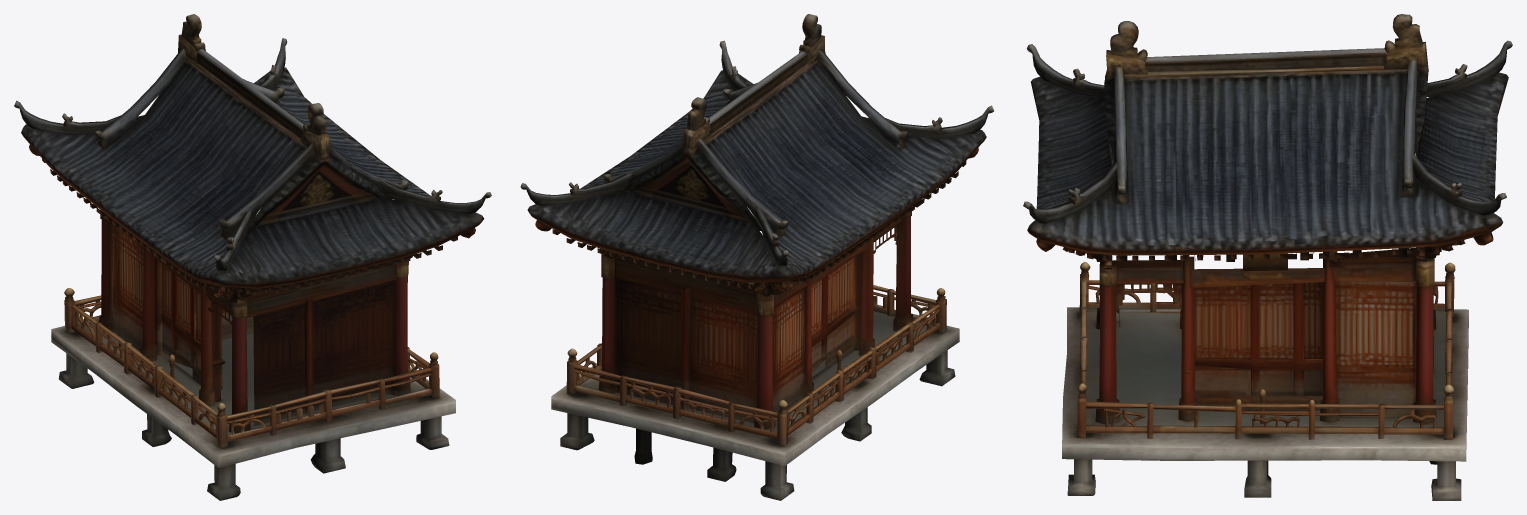
File: 中国式亭子3d模型.glb
The picture shows the model from 3 angles, left to right: view 1: azimuth 30°, elevation 25°; view 2: azimuth 150°, elevation 25°; view 3: azimuth 270°, elevation 25°; orthographic projection. The views are drawn at different scales.
Visible parts, largest first — view 1: e28cce90_92b5_4383_881b_cf3d5aeeedf2; view 2: e28cce90_92b5_4383_881b_cf3d5aeeedf2; view 3: e28cce90_92b5_4383_881b_cf3d5aeeedf2.
Part boxes in pixels (x1=…): e28cce90_92b5_4383_881b_cf3d5aeeedf2: x1=14, y1=14, x2=491, y2=500; e28cce90_92b5_4383_881b_cf3d5aeeedf2: x1=520, y1=14, x2=993, y2=500; e28cce90_92b5_4383_881b_cf3d5aeeedf2: x1=1023, y1=14, x2=1512, y2=500.
Size of the model in its own units: 0.7661 by 0.9517 by 0.9995.
Materials: 1 (1 with a texture image).
